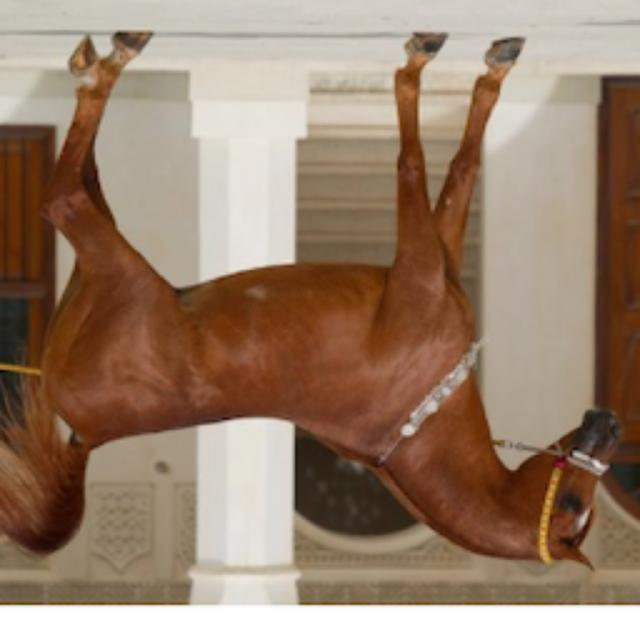Horse: (2, 28, 628, 580)
